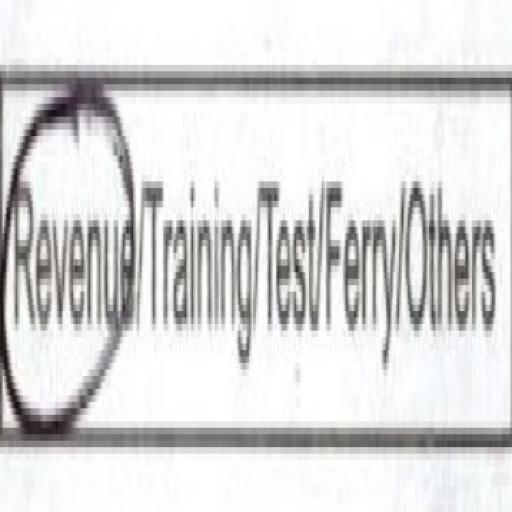check: (2, 41, 142, 438)
